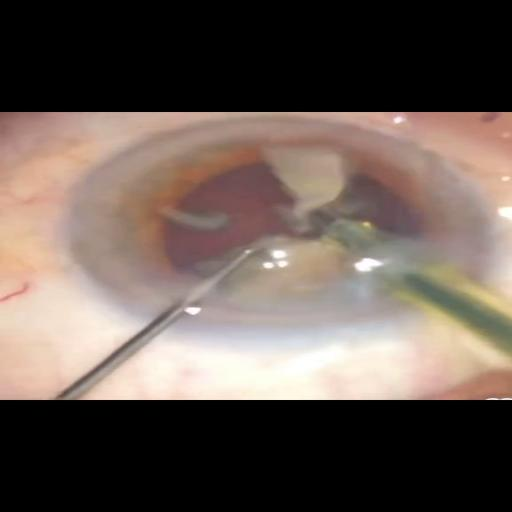catarata: (158, 159, 403, 309)
cornea: (99, 119, 492, 331)
pupil: (135, 144, 456, 312)
